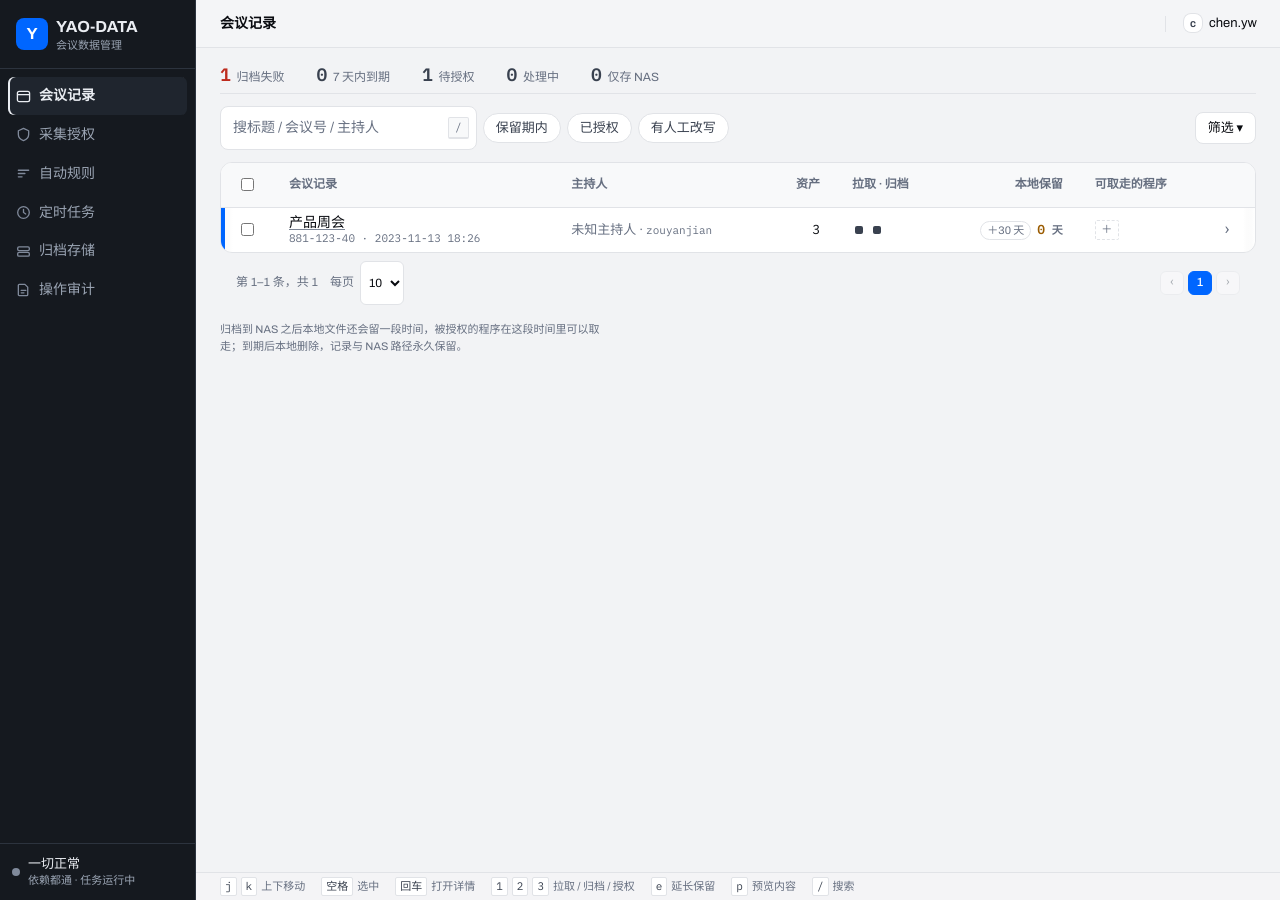
AppShell · 顶栏标题从路由派生 › 顶栏标题跟左栏导航同一份文案，切路由跟着换
This screenshot has width=1280, height=900.
Expected: the text with test id "triage-count-archfail" is shown, [220,64,230,86]
Expected: the text with test id "topbar-title" reads "会议记录", [220,16,276,31]
Click the link "采集授权" at (56, 135), box [16,127,95,142]
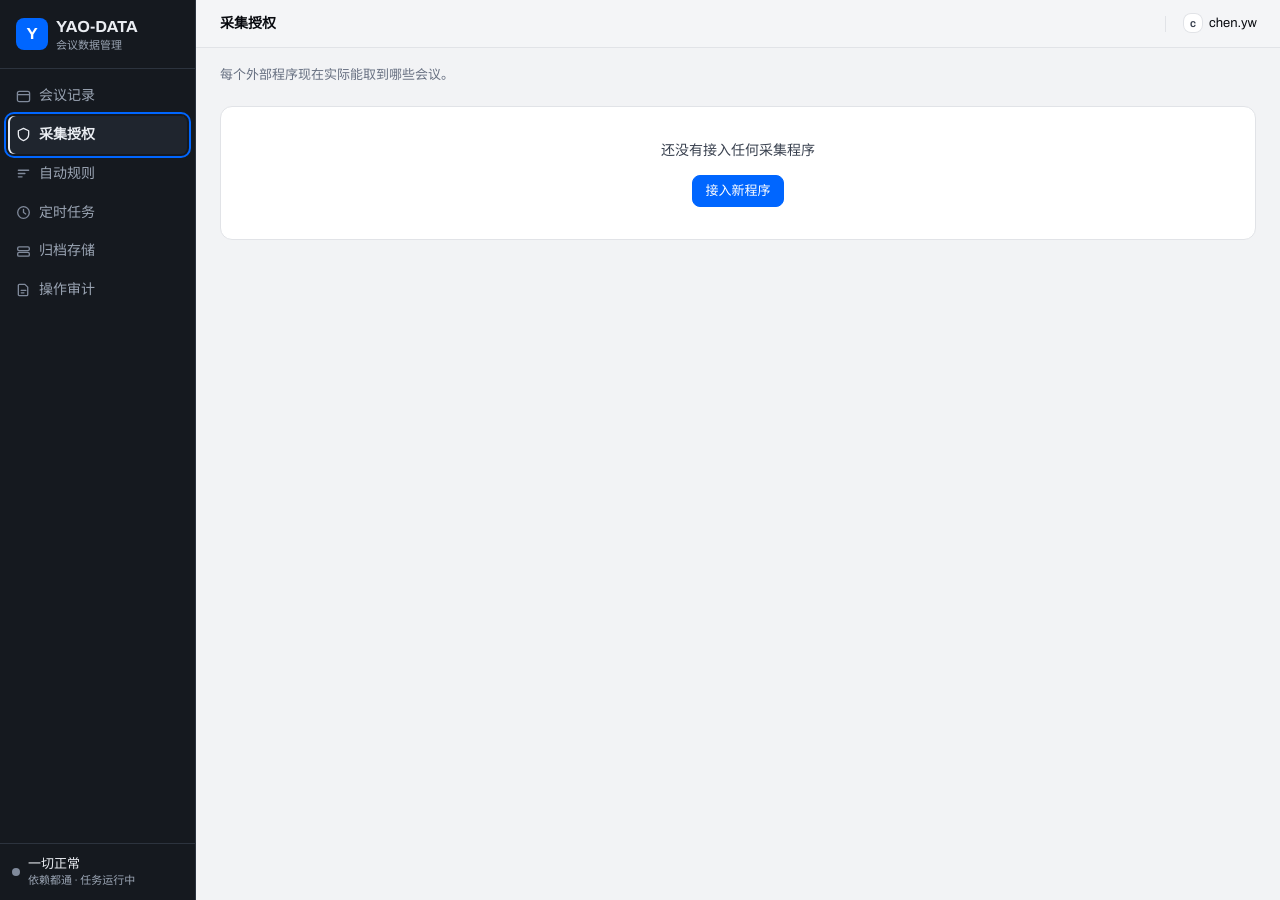
Now the text with test id "topbar-title" reads "采集授权", box [220,16,276,31]
